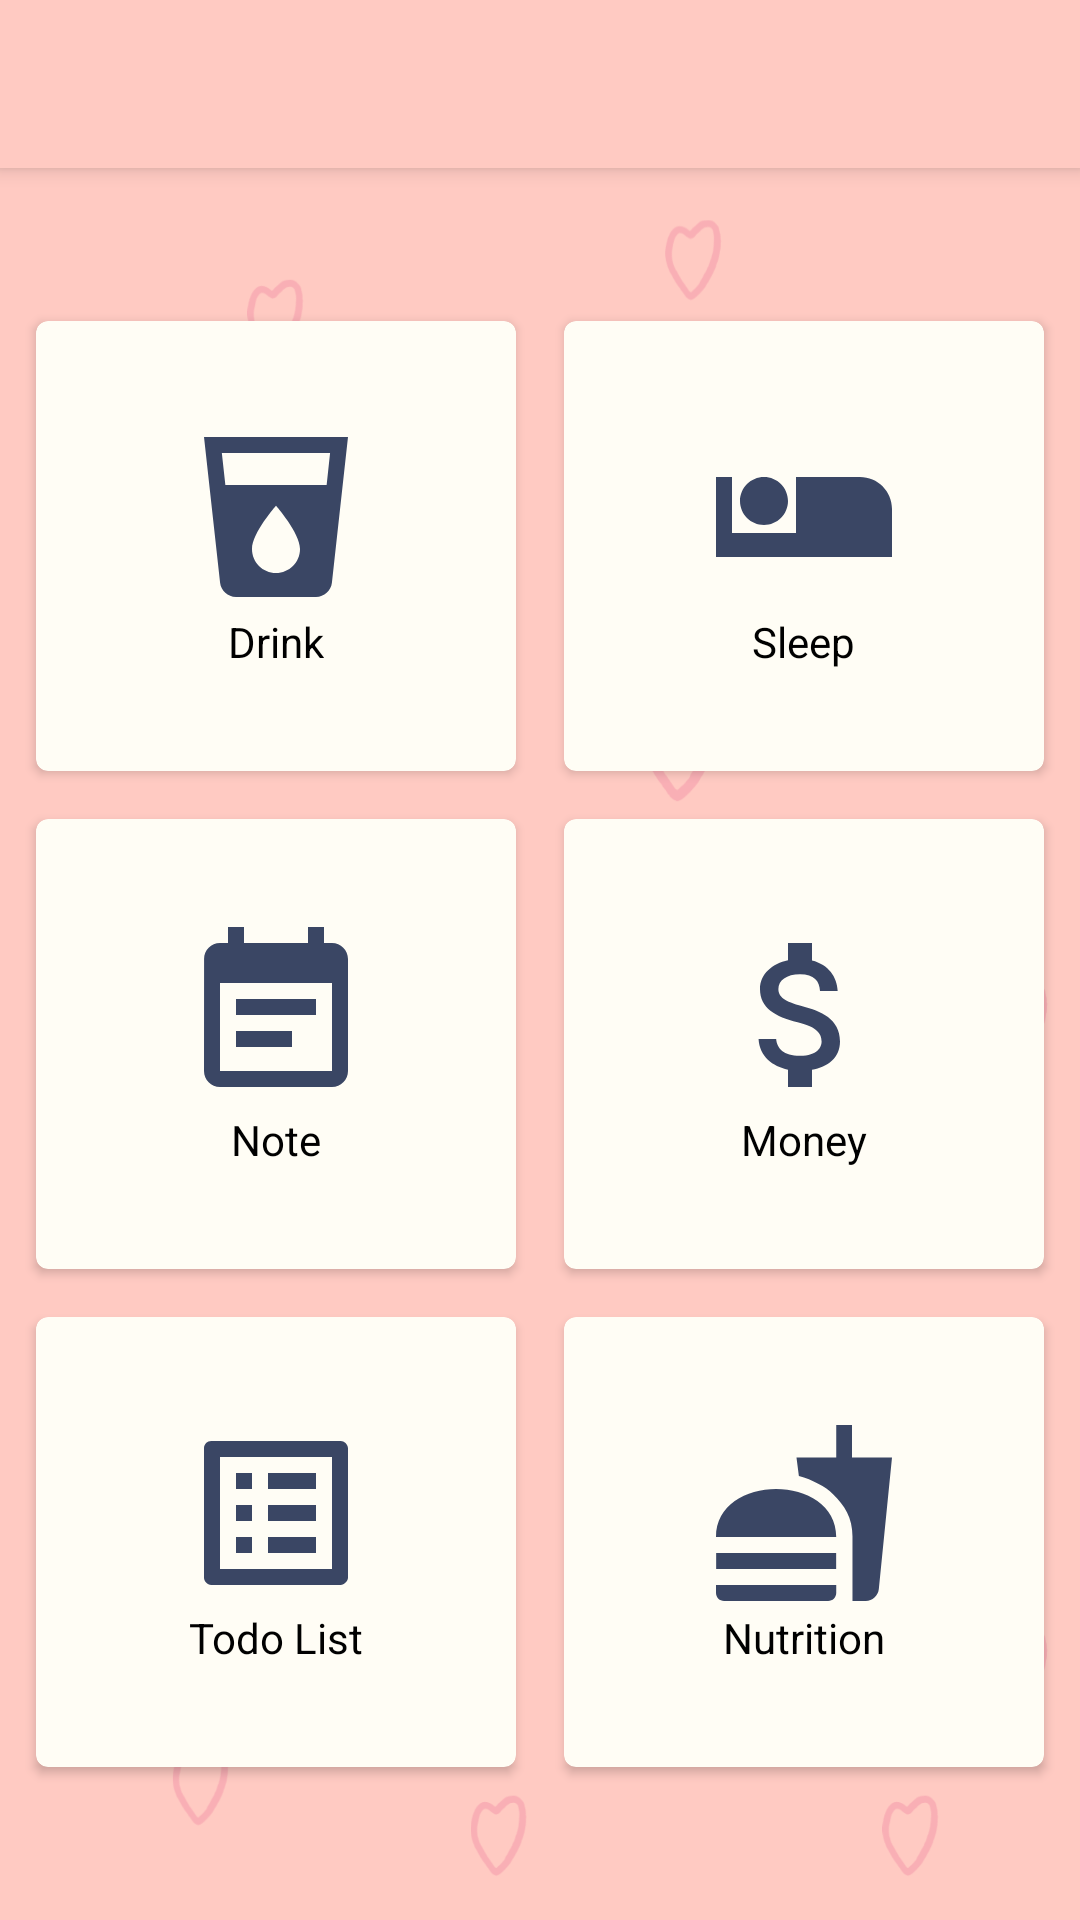

Named icons in this screenshot (1080x1920) and their bounding boxes, {"x1": x1, "y1": y1, "x2": x2, "y2": y2}:
fastfood: {"x1": 716, "y1": 1425, "x2": 892, "y2": 1601}
